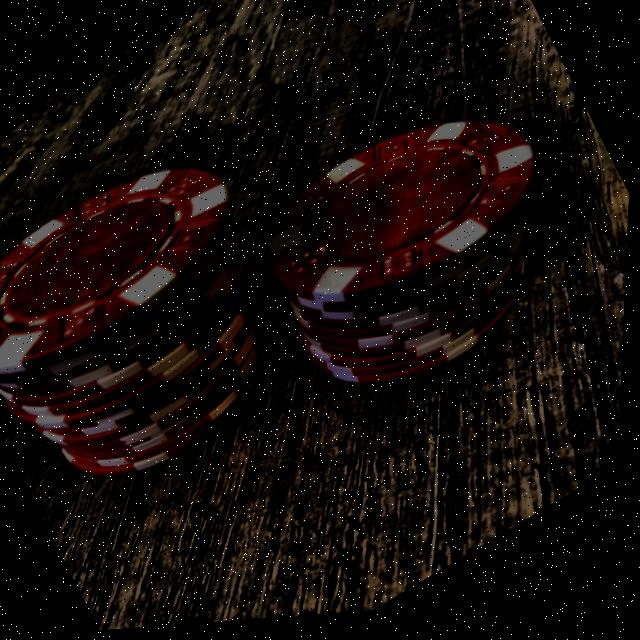Chip: (0, 82, 370, 547), (210, 55, 625, 450)
